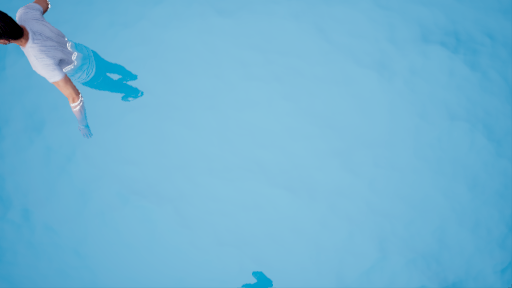person: (4, 3, 155, 141)
